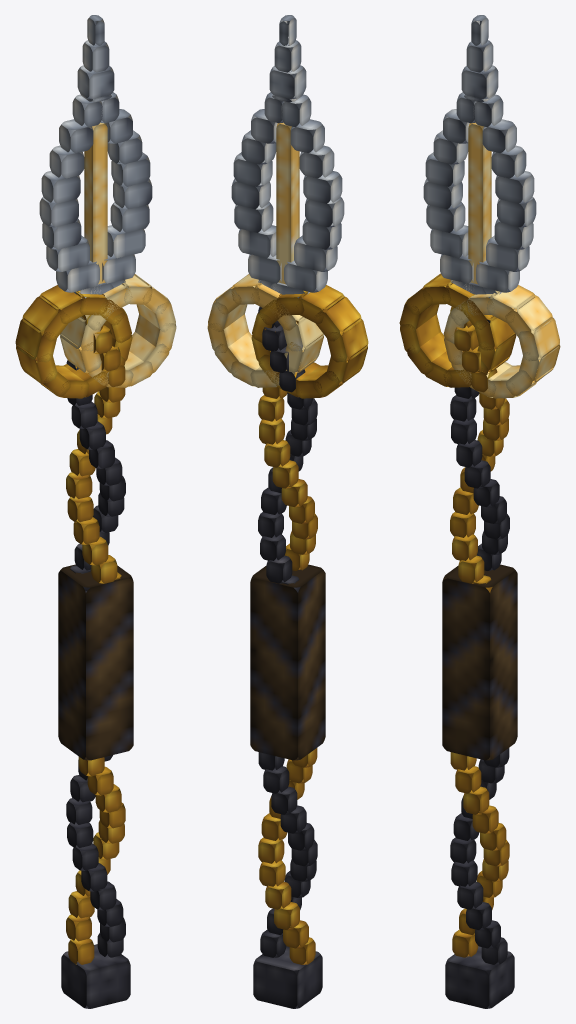
File: unison.obj
3 renders of one model, left to right at view 1: azimuth 30°, elevation 25°; view 2: azimuth 150°, elevation 25°; view 3: azimuth 330°, elevation 25°, orthographic.
Visible parts, largest first — view 1: lit, fire; view 2: lit, fire; view 3: lit, fire.
Boxes of the visible parts, bbox=[...] form: lit: bbox=[15, 15, 152, 1008]; fire: bbox=[60, 122, 176, 387]; lit: bbox=[231, 15, 368, 1008]; fire: bbox=[207, 122, 323, 387]; lit: bbox=[399, 15, 536, 1008]; fire: bbox=[443, 122, 560, 398].
Size of the model in its own units: 0.4836 by 3.18 by 0.1625.
